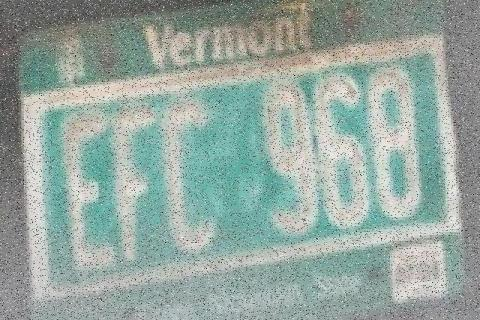LicensePlate: (17, 0, 468, 318)
